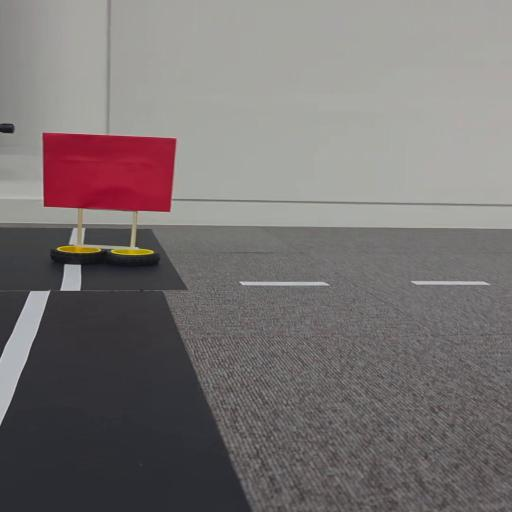Sign_A: (35, 132, 181, 270)
